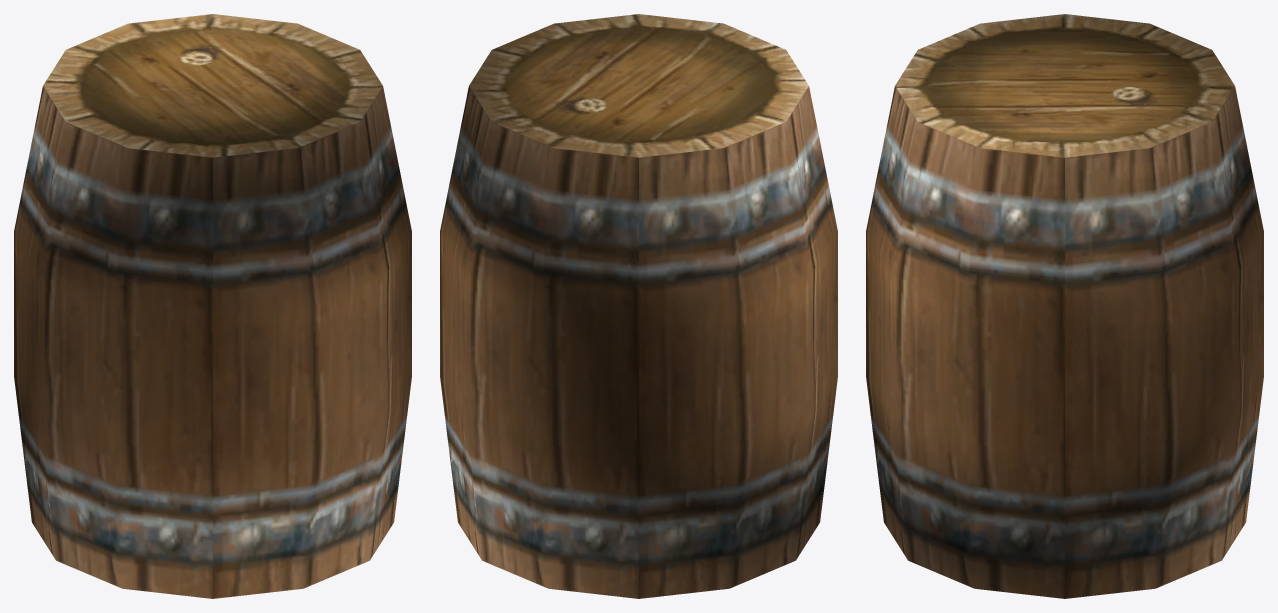
File: innbarrel.obj
3 views of the same model, side by side, from view 1: azimuth 30°, elevation 25°; view 2: azimuth 150°, elevation 25°; view 3: azimuth 270°, elevation 25° (orthographic).
Visible parts, largest first — view 1: INNBARREL0; view 2: INNBARREL0; view 3: INNBARREL0.
Part boxes in pixels (bbox=[...]): INNBARREL0: bbox=[14, 14, 411, 598]; INNBARREL0: bbox=[440, 14, 837, 598]; INNBARREL0: bbox=[866, 14, 1263, 598].
Size of the model in its own units: 1.38 by 1.67 by 1.38.
Materials: 1 (1 with a texture image).
